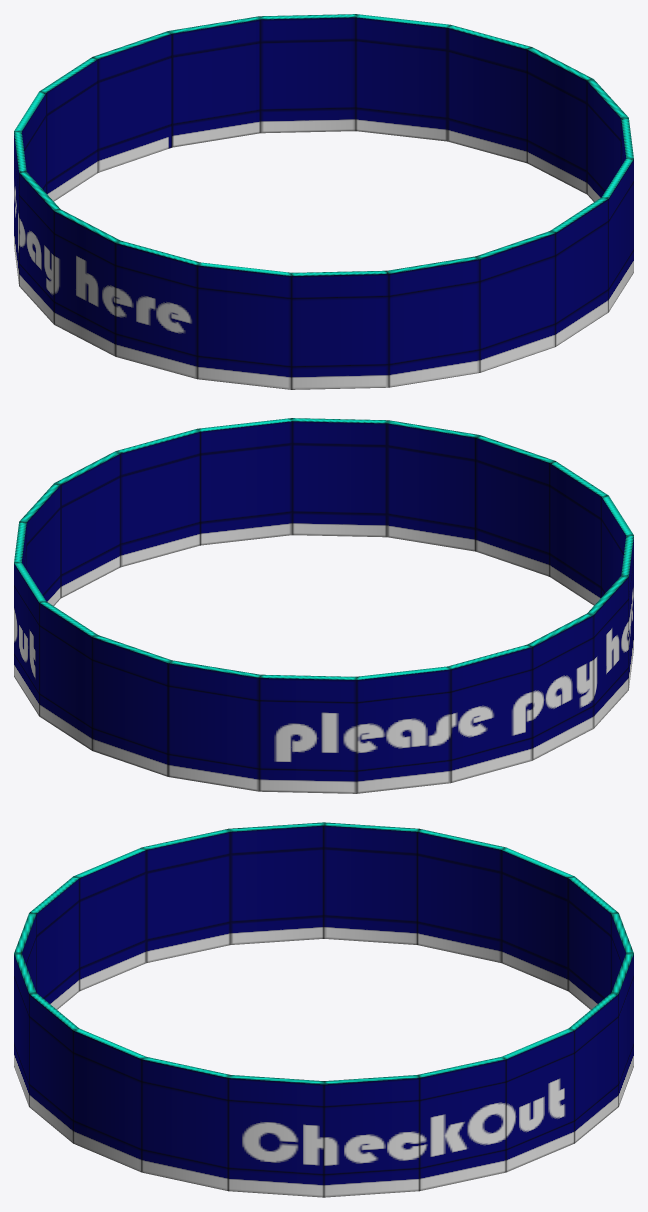
File: CheckOutSignB.fbx
The picture shows the model from 3 angles, top to bottom: view 1: azimuth 30°, elevation 25°; view 2: azimuth 150°, elevation 25°; view 3: azimuth 270°, elevation 25°; orthographic projection.
Parts seen in each view (by area): view 1: pPipe1; view 2: pPipe1; view 3: pPipe1.
Boxes of the visible parts, <box> form: pPipe1: <box>14,14,633,389</box>; pPipe1: <box>14,418,633,793</box>; pPipe1: <box>14,822,633,1197</box>.
Size of the model in its own units: 4 by 0.8057 by 4.
1 material, 1 textured.
